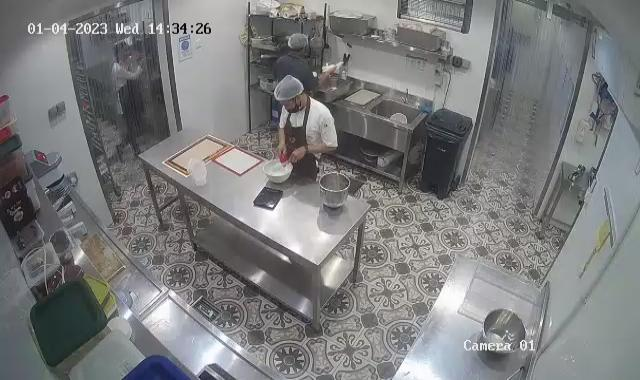hairnet: (273, 72, 303, 107), (288, 30, 310, 51)
